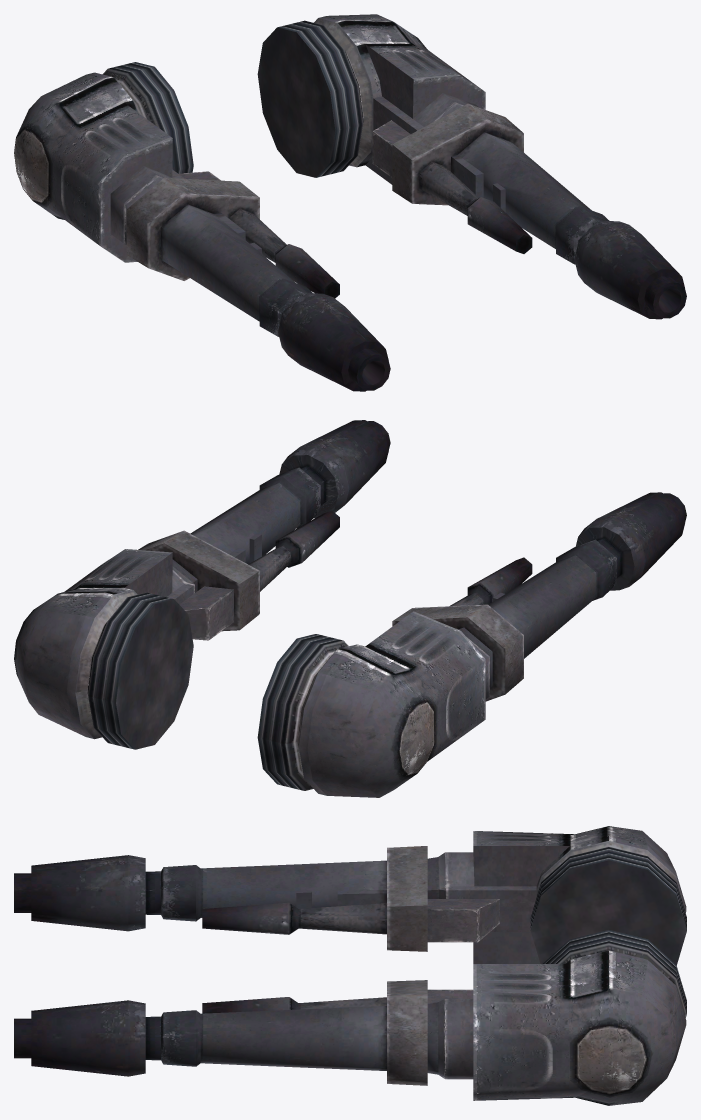
Rendered from kessel_mine_turret_body_s01_l0.fbx.
3 renders of one model, top to bottom at view 1: azimuth 30°, elevation 25°; view 2: azimuth 150°, elevation 25°; view 3: azimuth 270°, elevation 25°, orthographic.
Parts seen in each view (by area): view 1: mesh_node; view 2: mesh_node; view 3: mesh_node.
Boxes of the visible parts, bbox=[...] form: mesh_node: bbox=[14, 14, 686, 391]; mesh_node: bbox=[14, 420, 686, 797]; mesh_node: bbox=[14, 826, 686, 1105].
Size of the model in its own units: 4.18 by 1.41 by 6.08.
Materials: 1 (1 with a texture image).
